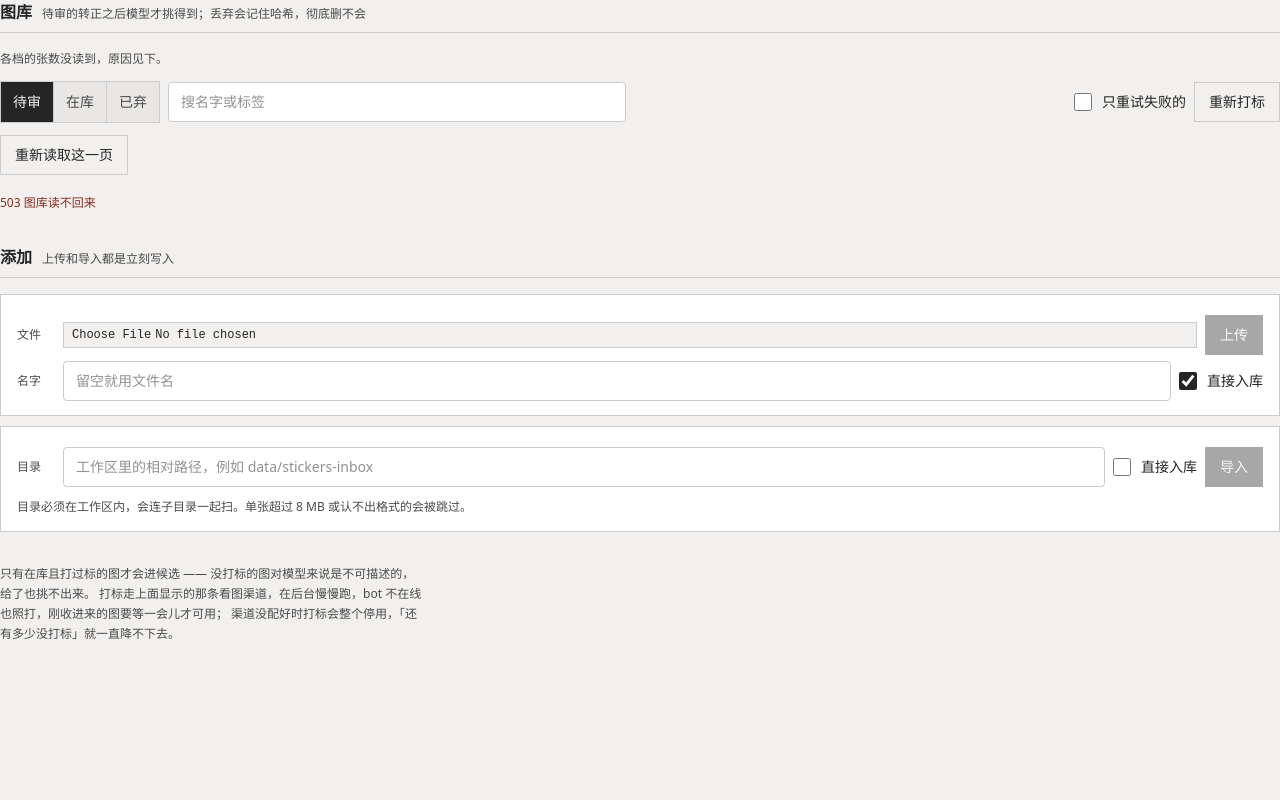
这一页没读成 › 首读失败不报各档 0 张，给重新读取，读成了照常摆出张数
Expected: the text "各档的张数没读到，原因见下。" is shown, top-left (0, 50), bottom-right (168, 67)
Expected: the button "在库" is shown, top-left (53, 82), bottom-right (106, 122)
Click the button "重新读取这一页".
click(64, 155)  # box top-left (0, 135), bottom-right (128, 175)
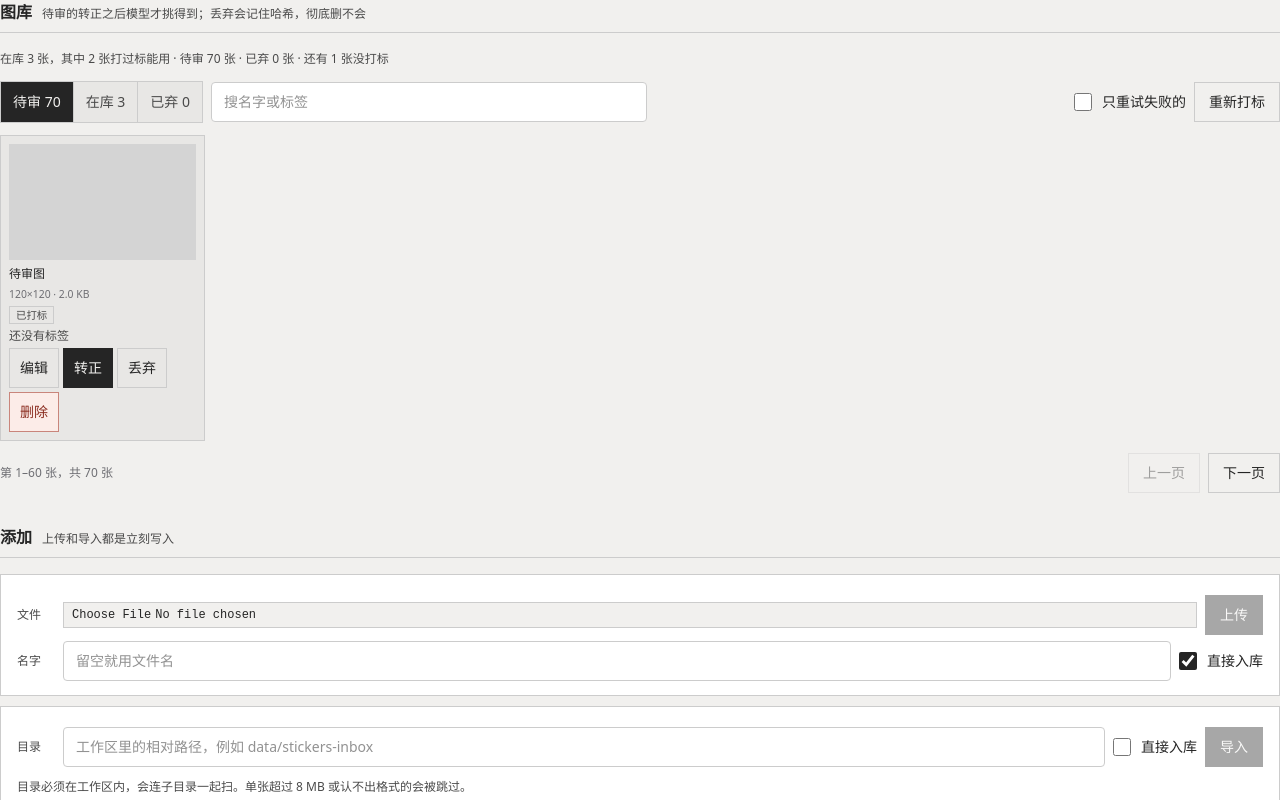
Result: the text "待审图" is shown at top-left (9, 265), bottom-right (45, 282)
Result: the button "在库 3" is shown at top-left (73, 82), bottom-right (137, 122)
Result: the text "503 图库读不回来" is gone
